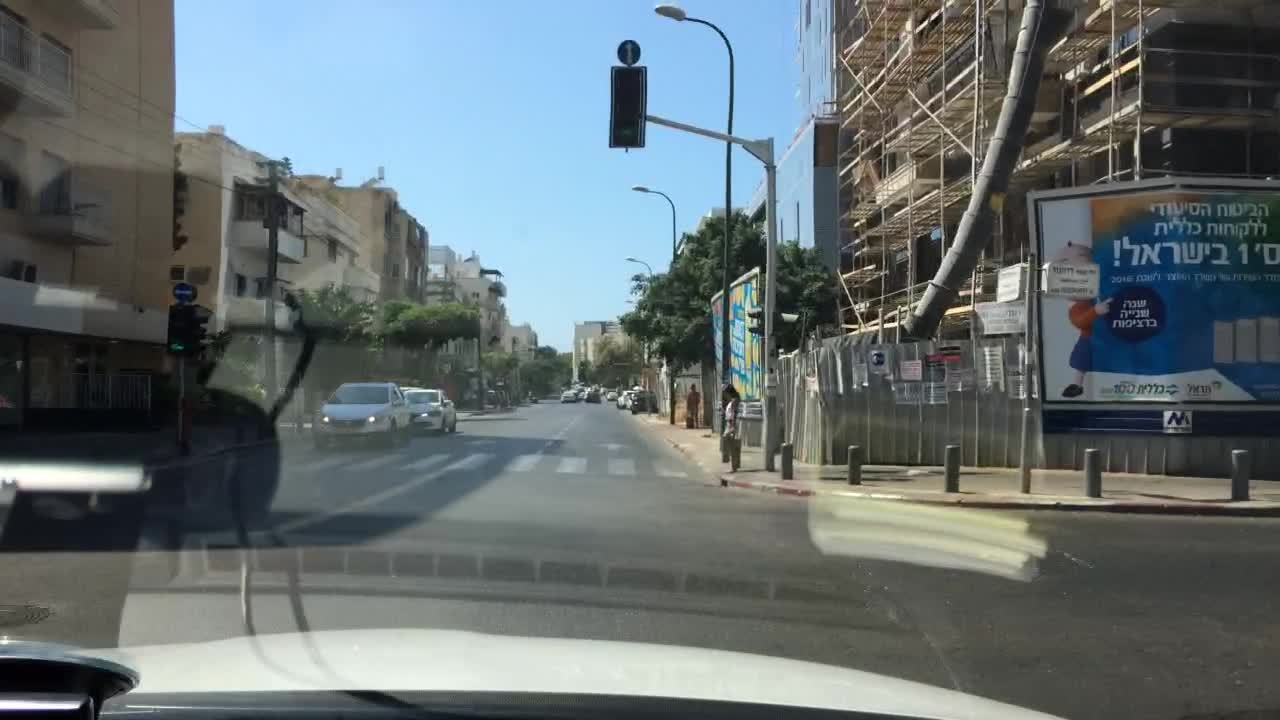car: (311, 381, 413, 450), (402, 388, 458, 434), (631, 391, 657, 414), (614, 390, 634, 408), (396, 385, 423, 397), (583, 387, 601, 402), (558, 391, 576, 403), (605, 389, 620, 400), (482, 399, 498, 409), (599, 386, 608, 397), (575, 390, 584, 401), (557, 386, 568, 395), (589, 383, 601, 391), (583, 383, 592, 392), (574, 381, 587, 387)
person: (723, 383, 744, 474), (684, 380, 703, 428)
traffic light: (609, 63, 647, 147), (167, 304, 196, 360), (194, 305, 213, 359), (776, 308, 799, 338), (748, 309, 764, 336)
traffic sign: (617, 39, 642, 65), (174, 281, 199, 300)
